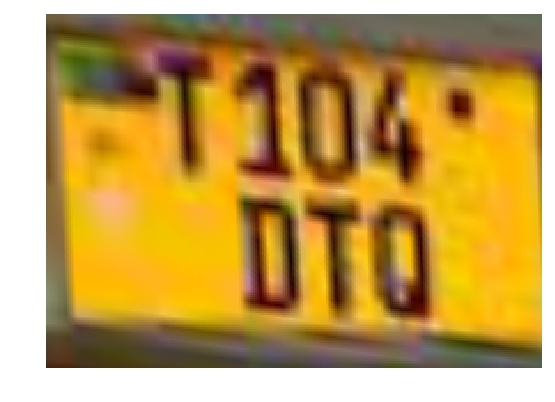T: (148, 40, 224, 184), (297, 186, 368, 315)
